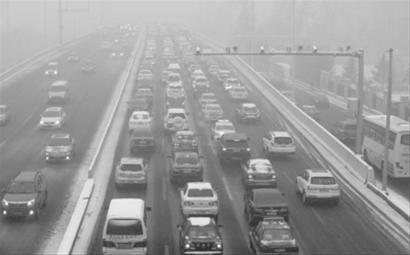bus: (359, 114, 410, 182), (164, 83, 186, 112)
car: (101, 198, 153, 255), (1, 169, 48, 221), (248, 216, 300, 255), (176, 215, 224, 255), (243, 187, 291, 226), (296, 167, 341, 207), (178, 181, 221, 219), (166, 150, 205, 185), (240, 158, 277, 191), (216, 133, 252, 166), (114, 157, 149, 189), (261, 131, 298, 158), (44, 132, 76, 163), (128, 128, 157, 154), (38, 106, 67, 131), (163, 107, 190, 133), (170, 131, 200, 154), (210, 119, 238, 143), (334, 120, 359, 145), (127, 111, 154, 134), (236, 101, 262, 124), (48, 81, 71, 104), (127, 99, 152, 119), (202, 104, 225, 124), (300, 104, 321, 124), (197, 92, 218, 110), (228, 87, 249, 103), (280, 89, 298, 107), (192, 76, 211, 93), (134, 87, 154, 103), (223, 78, 242, 94), (166, 73, 184, 89), (44, 61, 60, 78), (216, 69, 233, 84), (166, 63, 183, 78), (1, 104, 12, 126), (81, 59, 97, 74), (137, 69, 154, 83), (315, 95, 330, 110), (161, 70, 176, 85), (208, 64, 223, 77), (191, 70, 205, 83), (188, 64, 202, 75), (142, 56, 155, 67)
